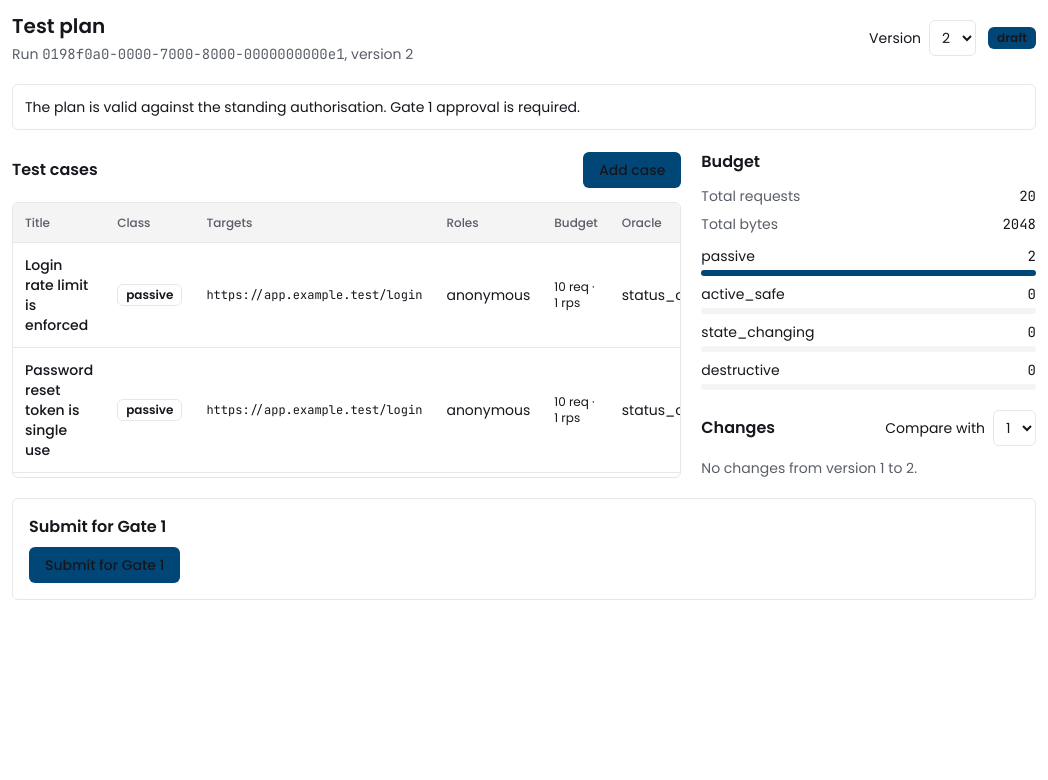
it: PlanEditor › shows the server refusal when the plan is no longer valid at submit time
Click the button "Submit for Gate 1": (105, 565) [29,547,180,583]
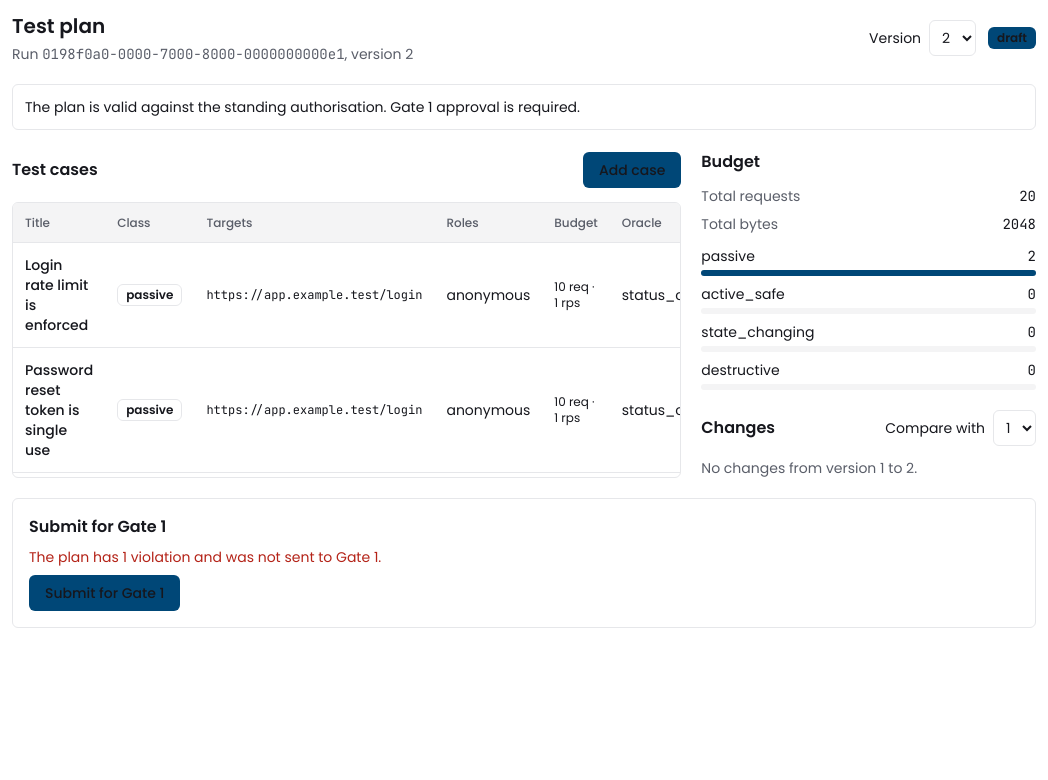
Check: the message "The plan has 1 violation and was not sent to Gate 1." is shown, box [29,547,381,567]
